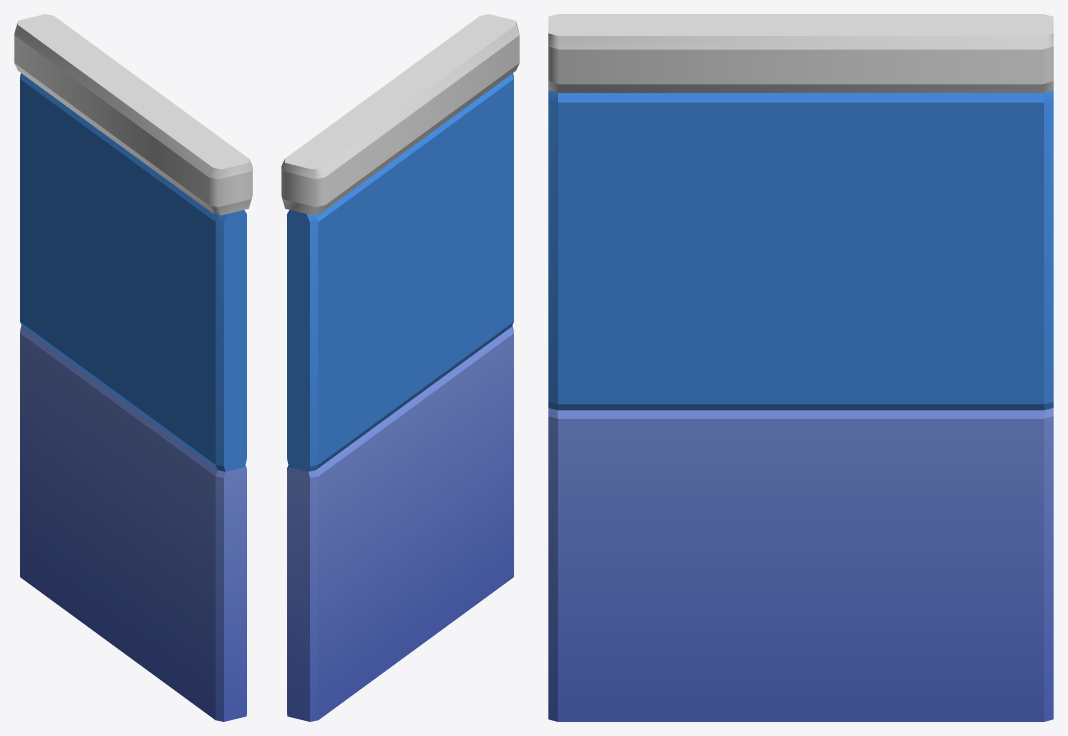
The model's file is Wall_D_1.glb.
3 views of the same model, side by side, from view 1: azimuth 30°, elevation 25°; view 2: azimuth 150°, elevation 25°; view 3: azimuth 270°, elevation 25° (orthographic). The views are drawn at different scales.
Parts seen in each view (by area): view 1: Wall_D_1; view 2: Wall_D_1; view 3: Wall_D_1.
Boxes of the visible parts, x1,y1,x2,y2 form: Wall_D_1: (14,14,252,721); Wall_D_1: (281,14,519,721); Wall_D_1: (548,14,1053,721).
Size of the model in its own units: 0.25 by 3 by 2.
1 material, 1 textured.
